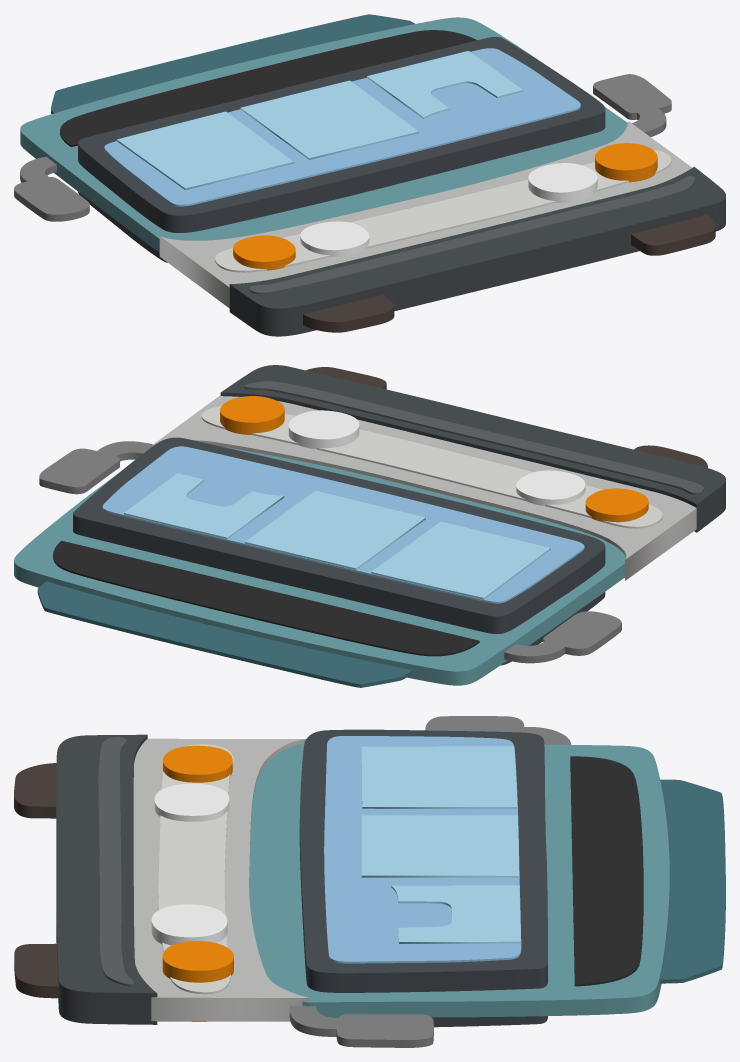
The model's file is emoji_u1f68d.glb.
3 renders of one model, top to bottom at view 1: azimuth 30°, elevation 25°; view 2: azimuth 150°, elevation 25°; view 3: azimuth 270°, elevation 25°, orthographic. The views are drawn at different scales.
Visible parts, largest first — view 1: emoji_u1f68d; view 2: emoji_u1f68d; view 3: emoji_u1f68d.
Part boxes in pixels (left/top/right/bottom): emoji_u1f68d: left=14, top=14, right=725, bottom=336; emoji_u1f68d: left=14, top=365, right=725, bottom=687; emoji_u1f68d: left=14, top=716, right=725, bottom=1047.
Size of the model in its own units: 0.0352 by 0.0032 by 0.0327.
